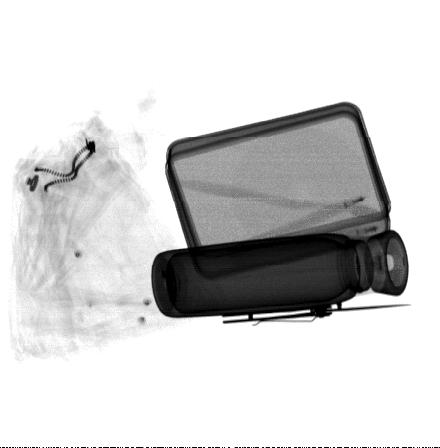Knife: (220, 302, 414, 328)
